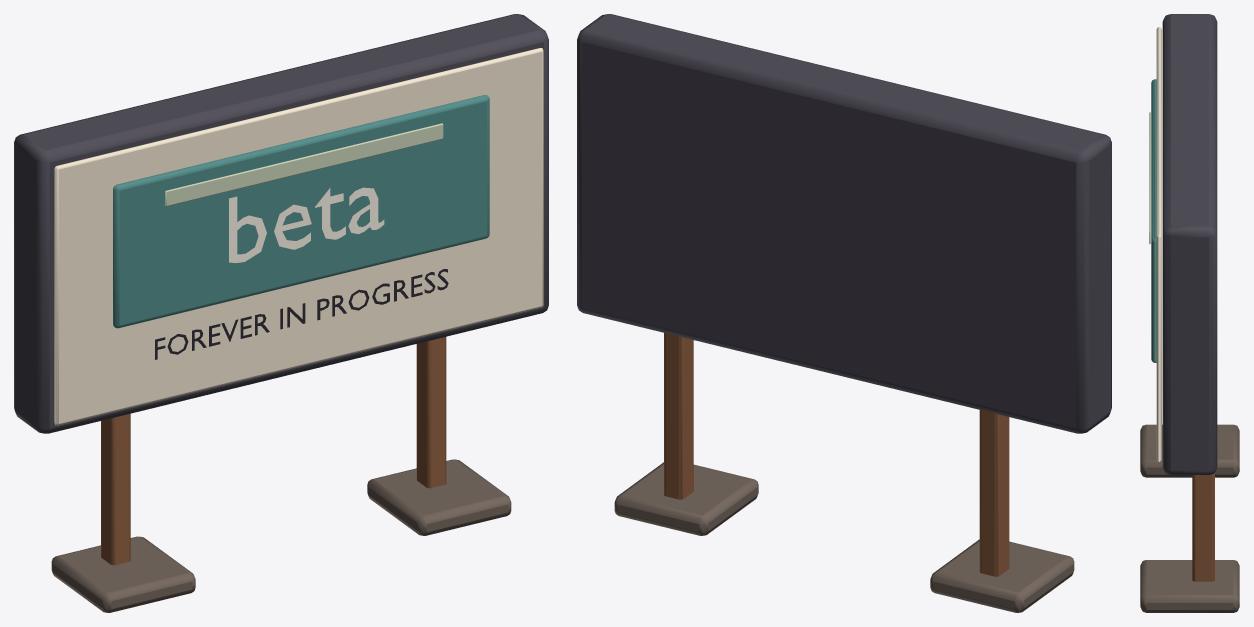
The model's file is era_beta_billboard.glb.
The picture shows the model from 3 angles, left to right: view 1: azimuth 30°, elevation 25°; view 2: azimuth 150°, elevation 25°; view 3: azimuth 270°, elevation 25°; orthographic projection. The views are drawn at different scales.
Parts seen in each view (by area): view 1: era_beta_billboard; view 2: era_beta_billboard; view 3: era_beta_billboard.
Part boxes in pixels (x1,y1,x2,y2): era_beta_billboard: [14, 14, 548, 612]; era_beta_billboard: [577, 14, 1111, 612]; era_beta_billboard: [1140, 14, 1239, 612].
Bounding box in the file's own units: 3.4 × 2.95 × 0.65.
